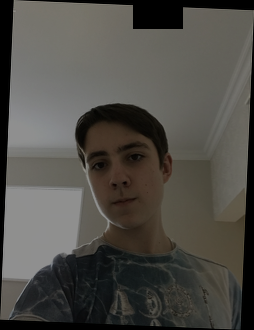without_mask: (82, 141, 164, 231)
